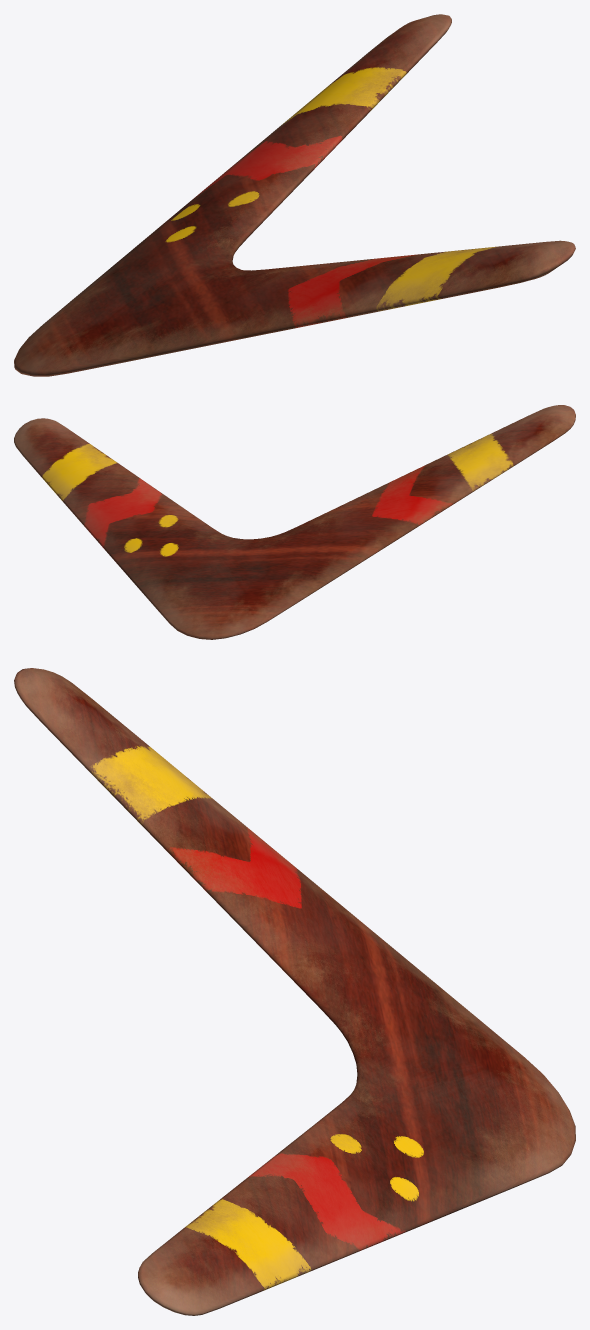
Rendered from boomerang.fbx.
The picture shows the model from 3 angles, top to bottom: view 1: azimuth 90°, elevation 25°; view 2: azimuth 150°, elevation 25°; view 3: azimuth 270°, elevation 25°; orthographic projection. The views are drawn at different scales.
Parts seen in each view (by area): view 1: Object_2; view 2: Object_2; view 3: Object_2.
Boxes of the visible parts, <box> form: Object_2: <box>14,14,575,376</box>; Object_2: <box>14,405,575,639</box>; Object_2: <box>14,668,575,1315</box>.
Size of the model in its own units: 4924 by 1517 by 2632.
Materials: 1 (1 with a texture image).
